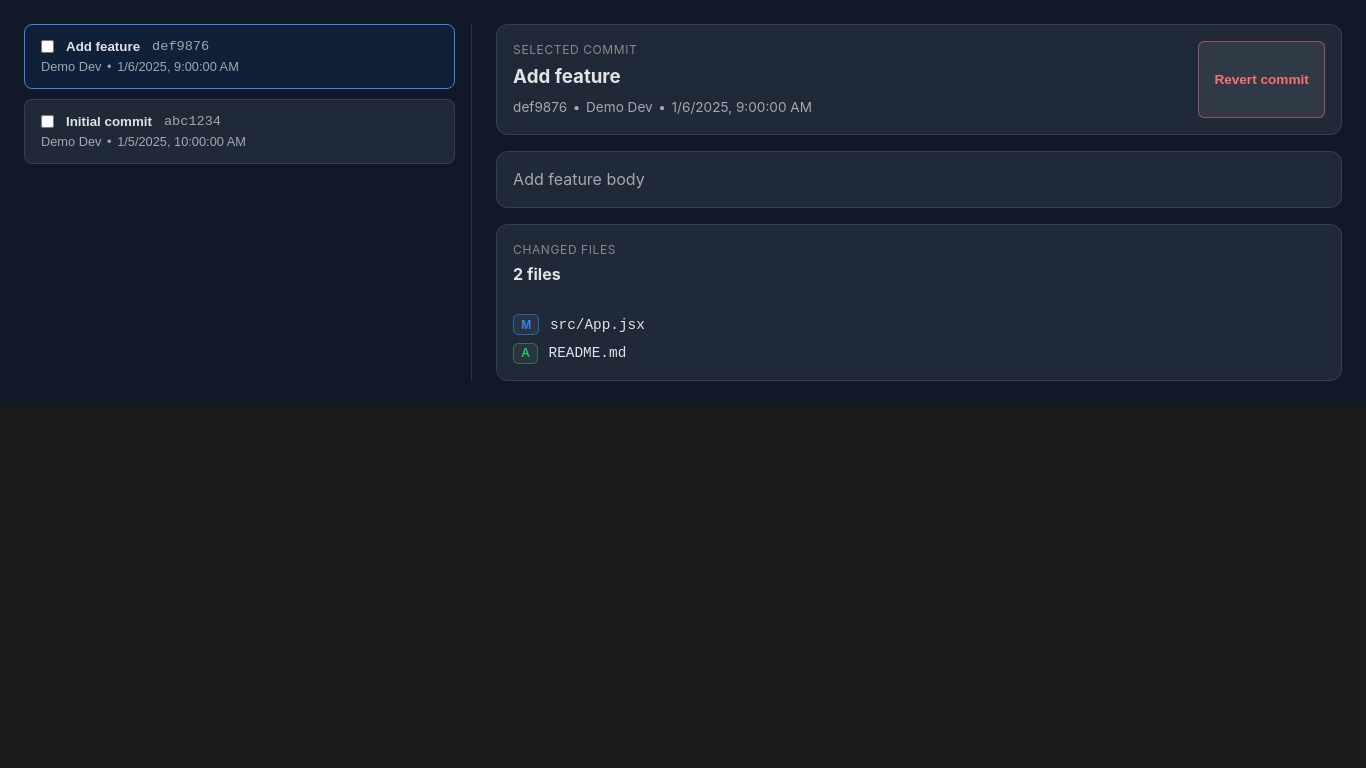
Scenario: CommitsTab › selecting two commits and squashing posts to the squash endpoint
Click the checkbox with test id "commit-squash-select-def9876".
click(48, 46)  # box [41,40,54,53]
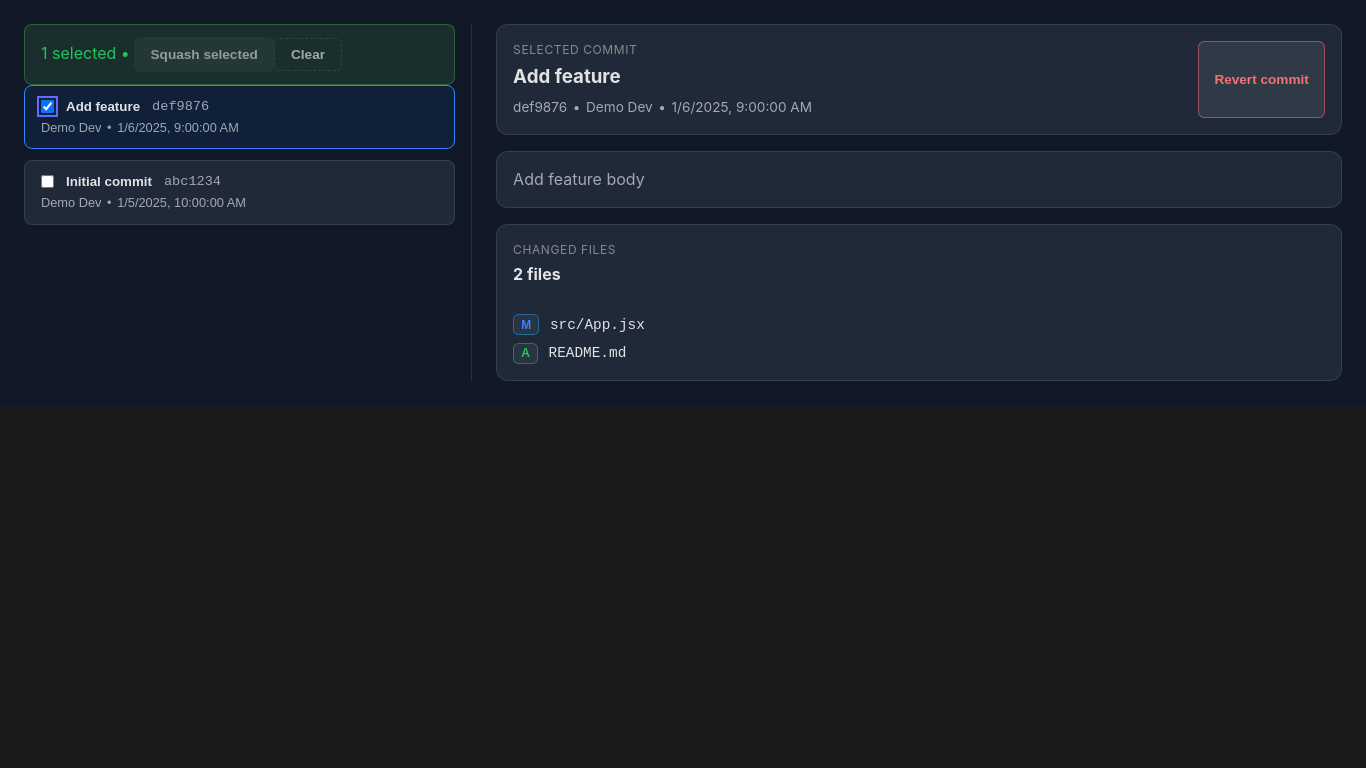
Click the checkbox with test id "commit-squash-select-abc1234".
click(48, 182)  # box [41,175,54,188]
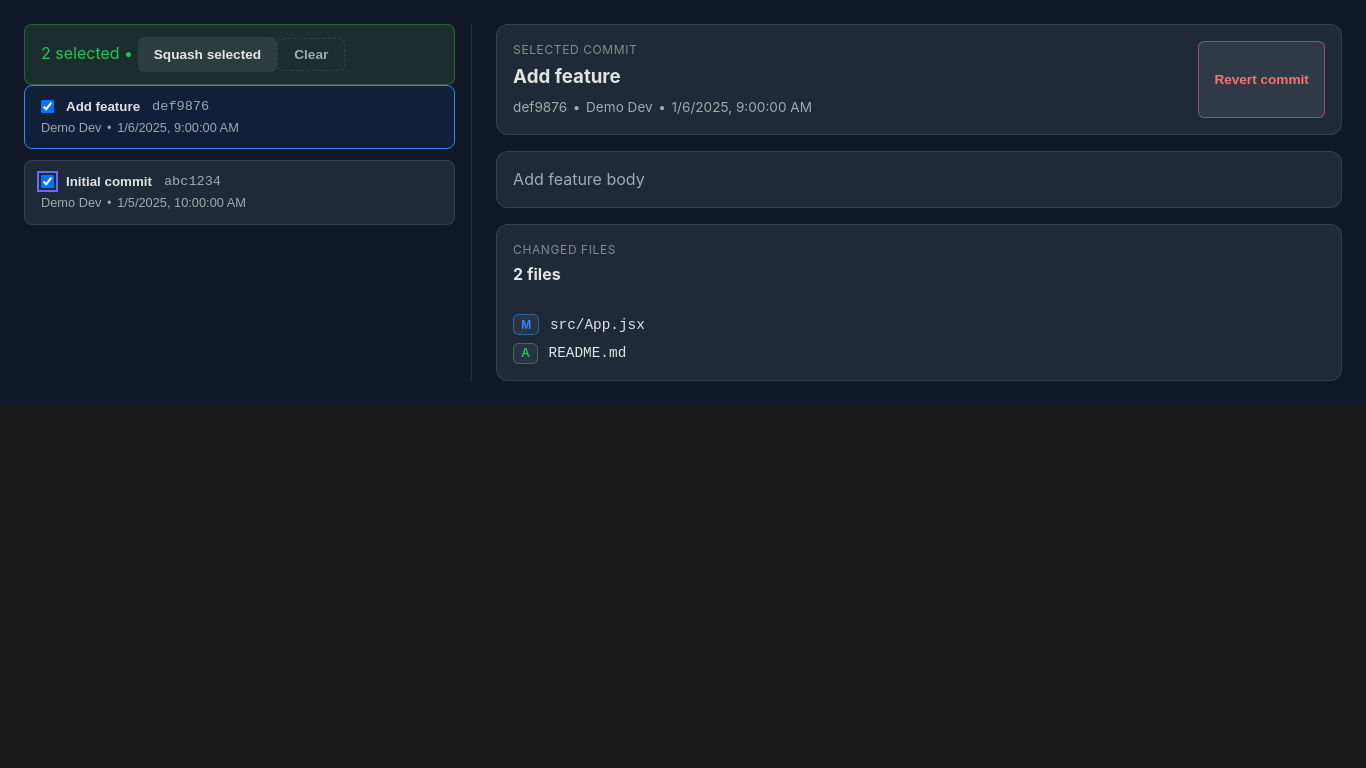
Check: the button with test id "commit-squash-action" is shown
Click the button with test id "commit-squash-action".
click(207, 54)  # box [138,37,277,72]
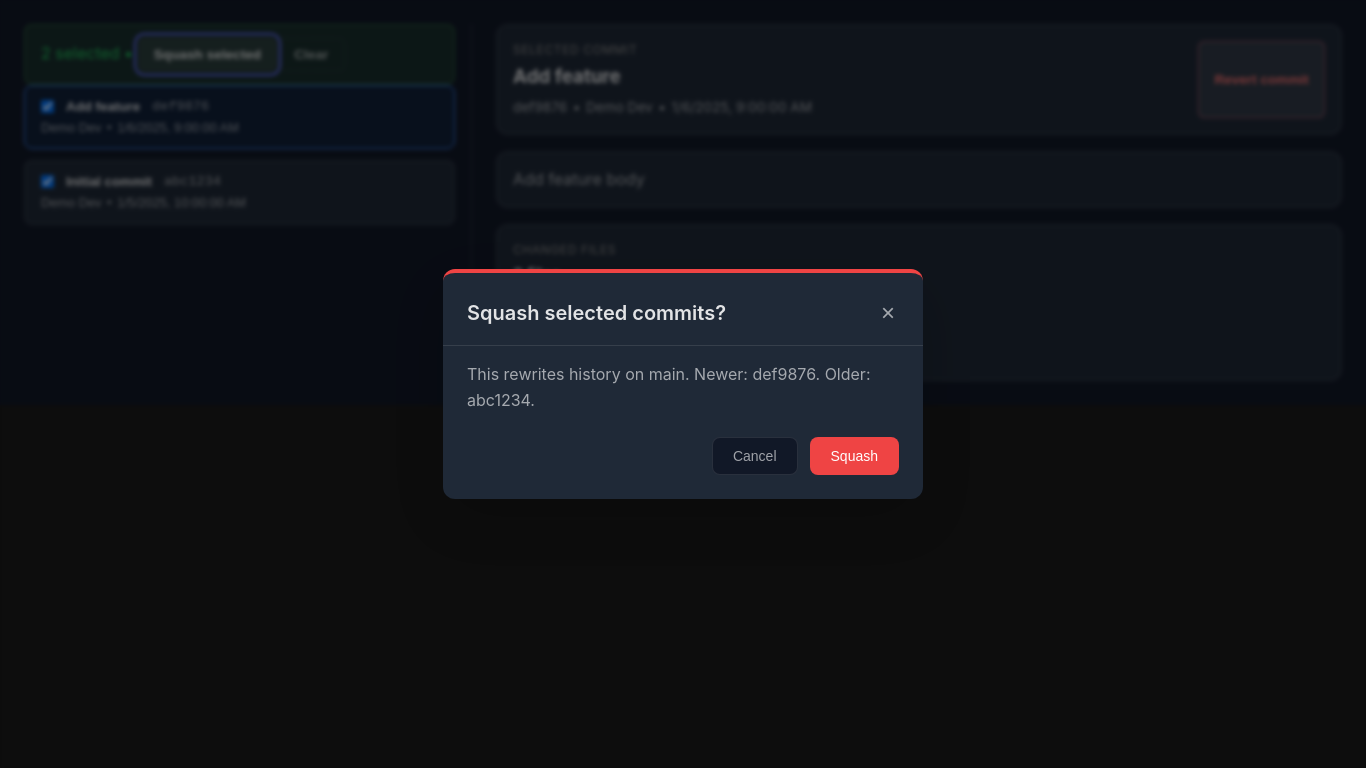
Check: the element with test id "modal-content" is shown, box [443,269,923,499]
Click the button with test id "modal-confirm".
click(854, 456)  # box [810,437,899,475]
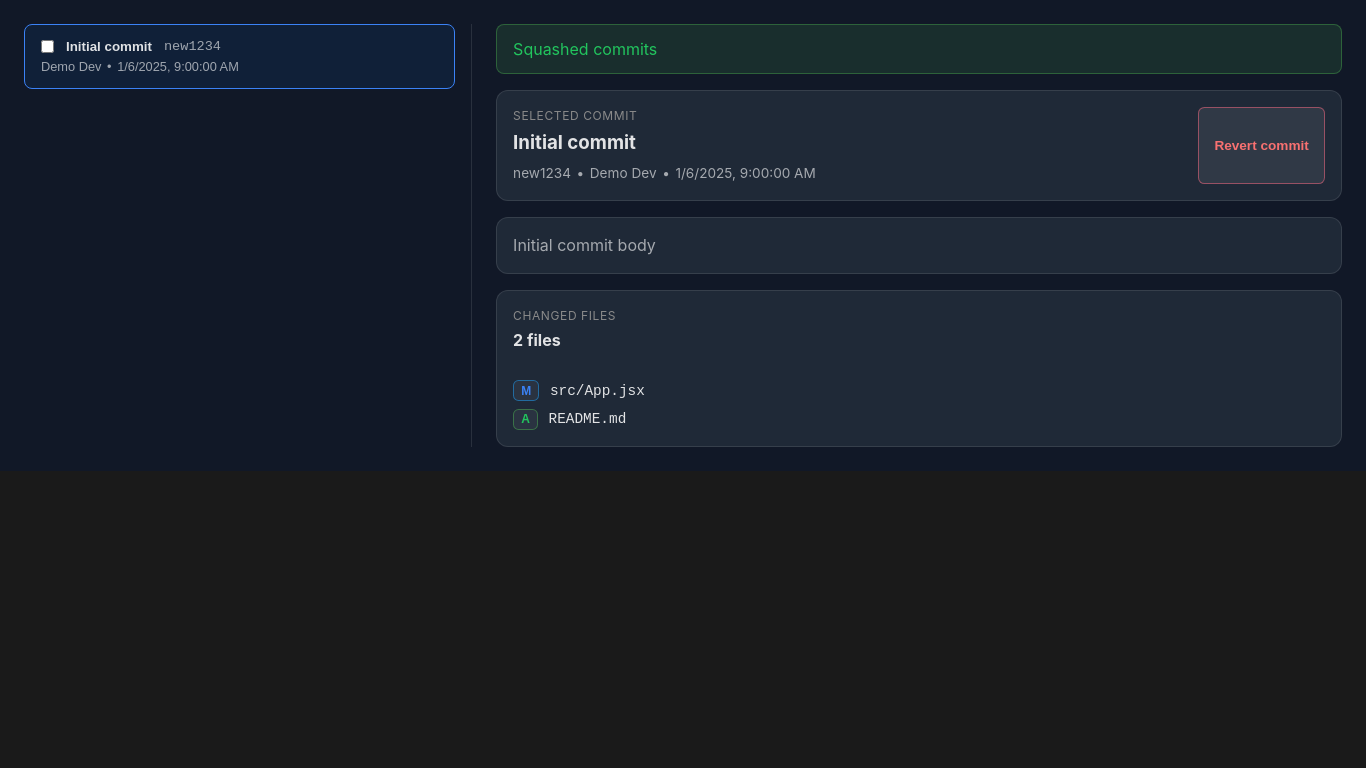
Check: the text "Squashed commits" is shown, box [496,24,1342,74]
